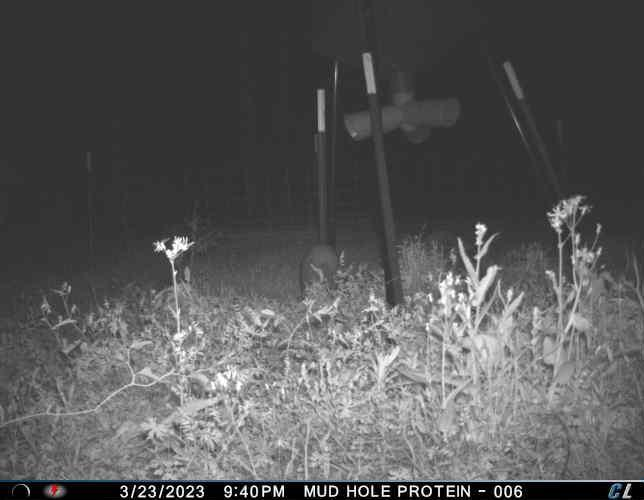Raccoon: (306, 243, 344, 304)
